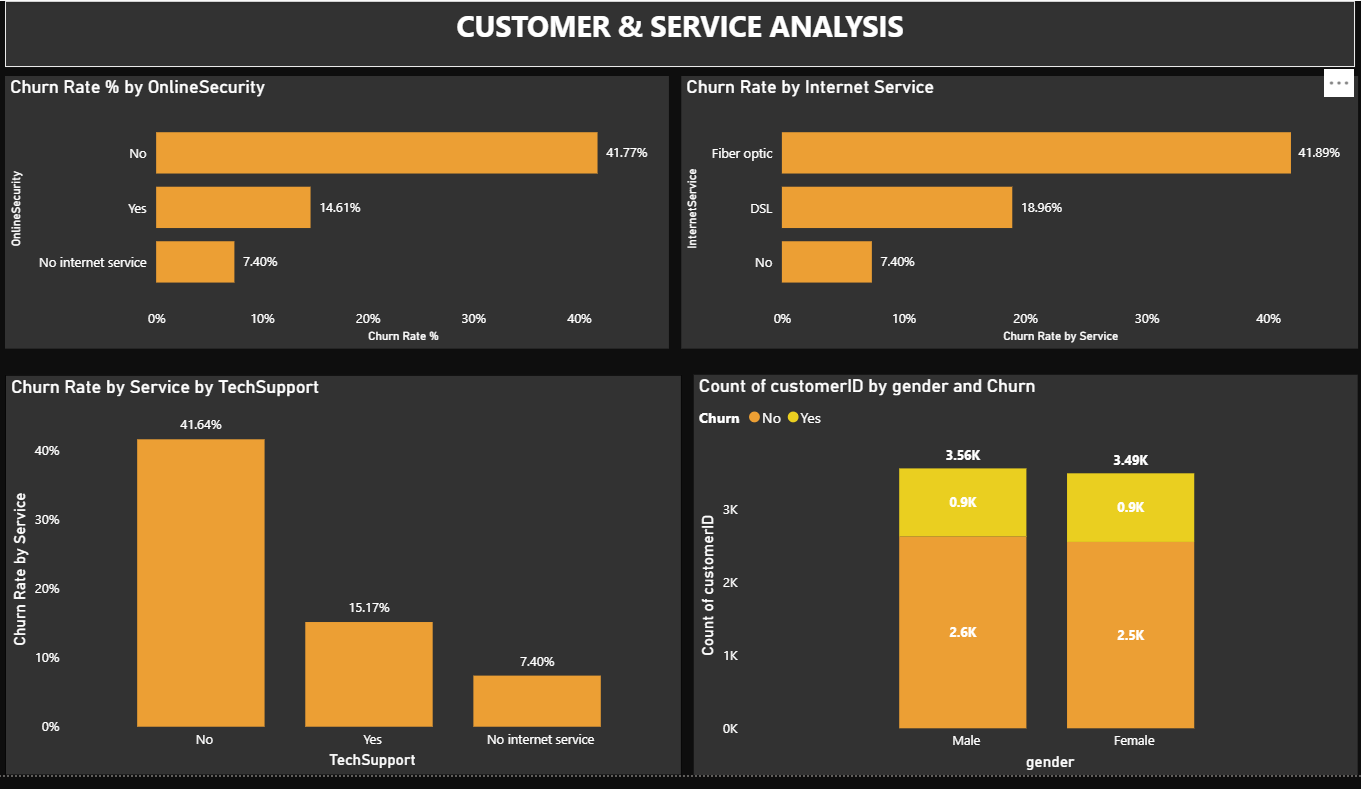

Layout of this report page (visuals, bound fields, positions):
{"tool":"powerbi","page":{"name":"Page 2","canvas":[1280,720],"ordinal":1},"visuals":[{"type":"textbox","box":[14.3,0,1256,61.9],"z":1000},{"type":"columnChart","fields":{"Category":["Customer Churn.gender"],"Y":["CountNonNull(Customer Churn.customerID)"],"Series":["Customer Churn.Churn"]},"box":[654.8,347.6,617.9,372.6],"z":2000},{"type":"barChart","fields":{"Category":["Customer Churn.OnlineSecurity"],"Y":["Customer Churn.Churn Rate %"]},"box":[14.3,70.2,617.9,253.6],"z":3000},{"type":"clusteredBarChart","title":"Churn Rate by Internet Service","fields":{"Category":["Customer Churn.InternetService"],"Y":["Customer Churn.Churn Rate by Service"]},"box":[642.9,70.2,629.8,253.6],"z":4000},{"type":"columnChart","fields":{"Category":["Customer Churn.TechSupport"],"Y":["Customer Churn.Churn Rate by Service"]},"box":[14.3,347.6,629.8,372.6],"z":5000}]}

Visuals, with their boxes in screenshot pixels (x1, y1, x2, y2), scaled from the page's 1280x720 canvas onto the 1361x789 screenshot:
textbox: 15,0,1351,68
columnChart - Customer Churn.gender x CountNonNull(Customer Churn.customerID): 696,381,1353,788
barChart - Customer Churn.OnlineSecurity x Customer Churn.Churn Rate %: 15,77,672,355
"Churn Rate by Internet Service" clusteredBarChart: 684,77,1353,355
columnChart - Customer Churn.TechSupport x Customer Churn.Churn Rate by Service: 15,381,685,788
